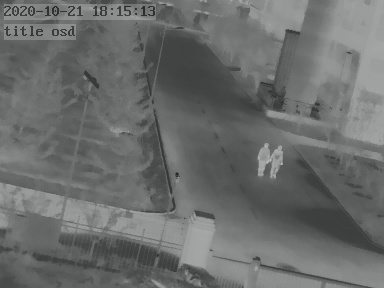person: (270, 141, 284, 181), (257, 140, 271, 178)
